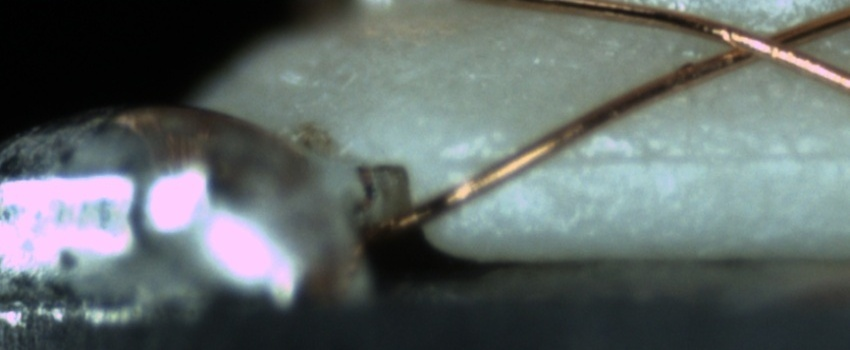CL: (712, 16, 817, 71)
DL: (444, 128, 850, 192)
